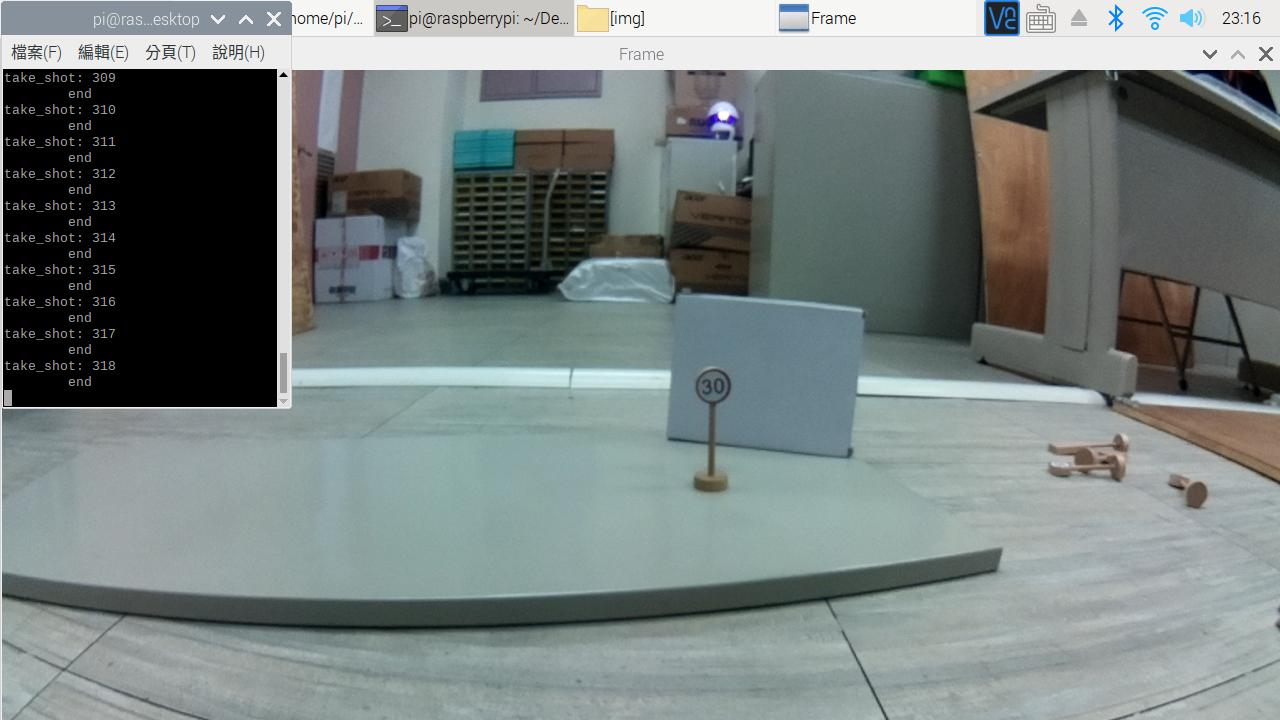Speed30: (687, 364, 747, 421)
